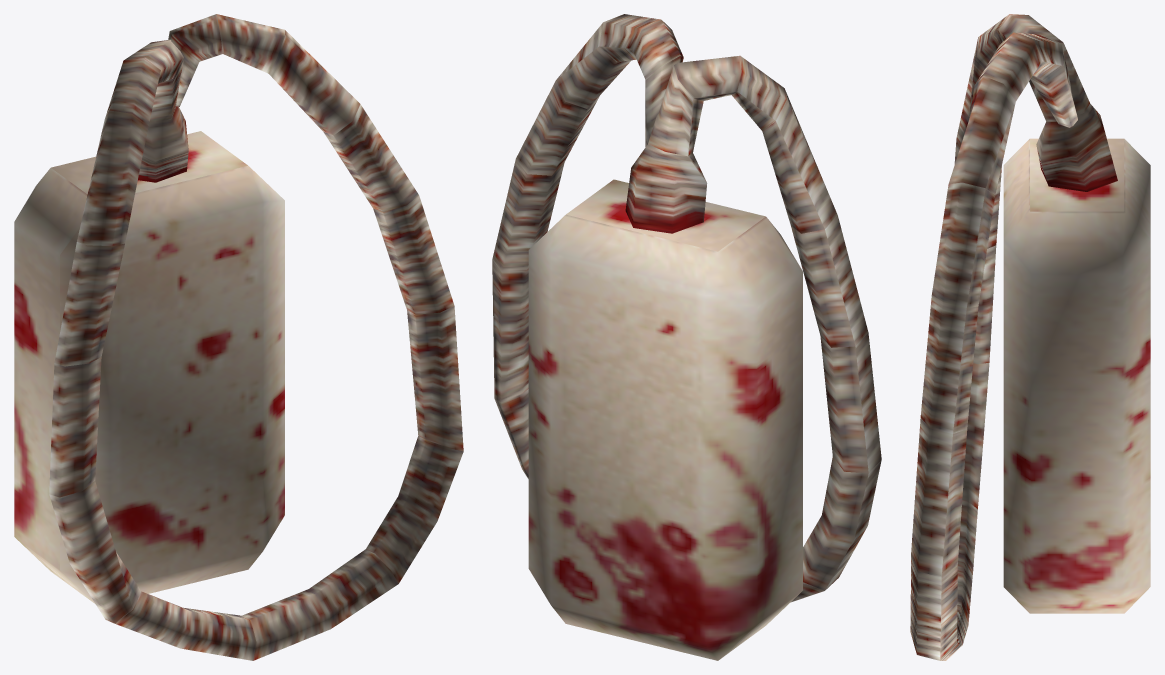
File: FolderIcon.ico.obj
3 views of the same model, side by side, from view 1: azimuth 30°, elevation 25°; view 2: azimuth 150°, elevation 25°; view 3: azimuth 270°, elevation 25° (orthographic).
Bounding box in the file's own units: 2.48 × 3.74 × 1.34.
1 material, 1 textured.
